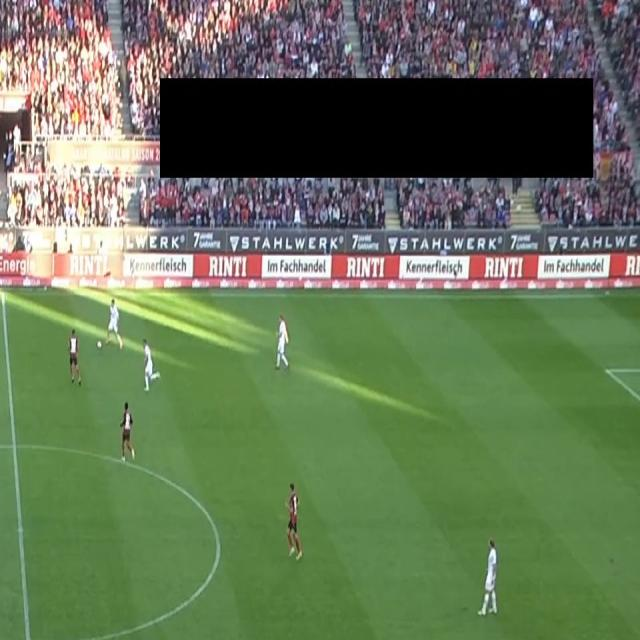ball: (97, 339, 102, 350)
